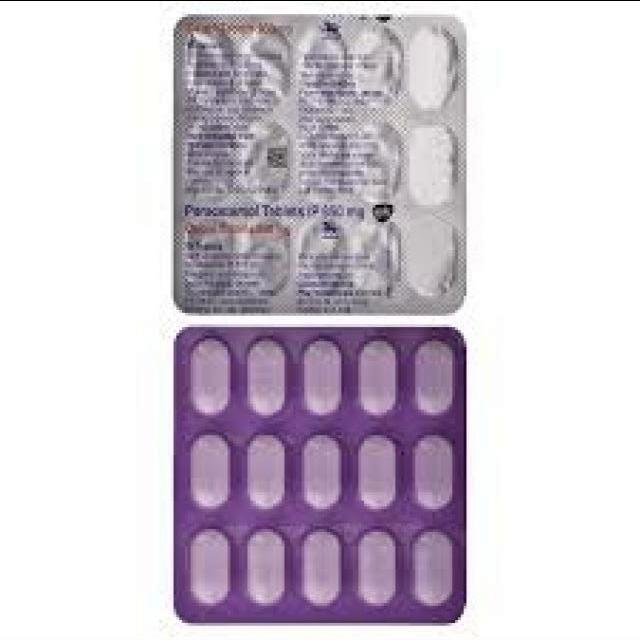authentic: (154, 13, 496, 324), (172, 314, 483, 632)
